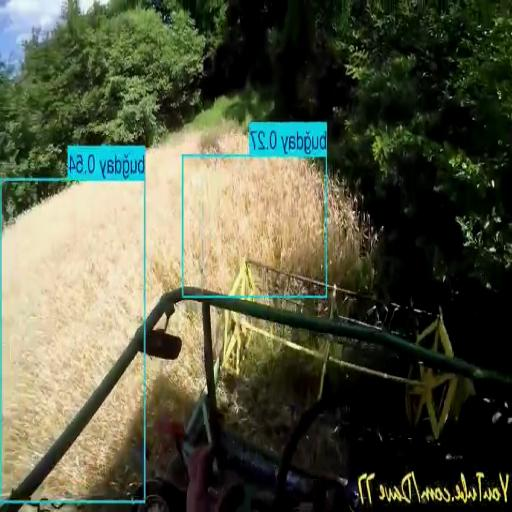bugday: (2, 183, 143, 490), (184, 159, 325, 292), (37, 357, 142, 496), (146, 132, 202, 316), (147, 302, 203, 440), (328, 185, 362, 280)
